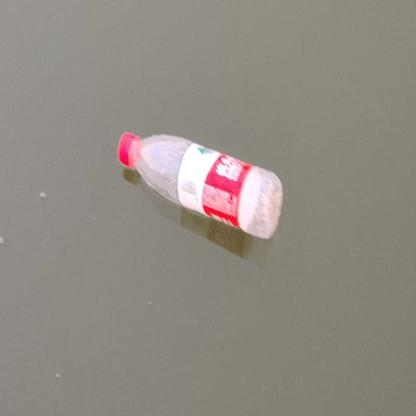plastic bottle: (118, 131, 284, 240)
